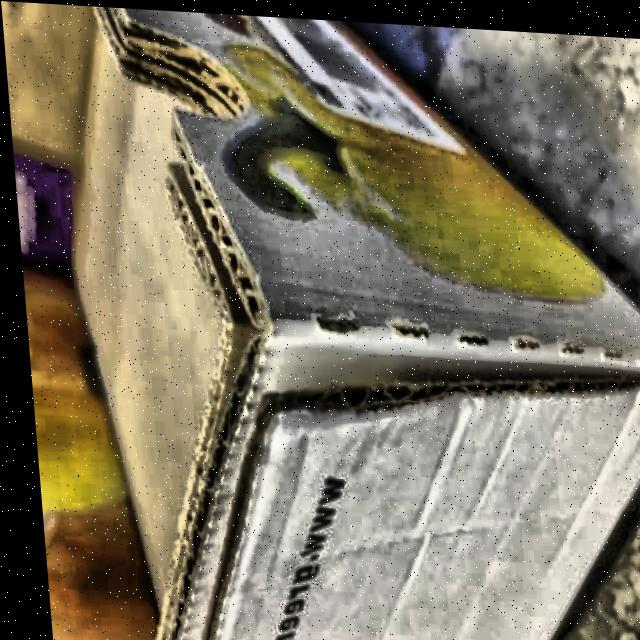cardboard: (48, 3, 640, 640)
